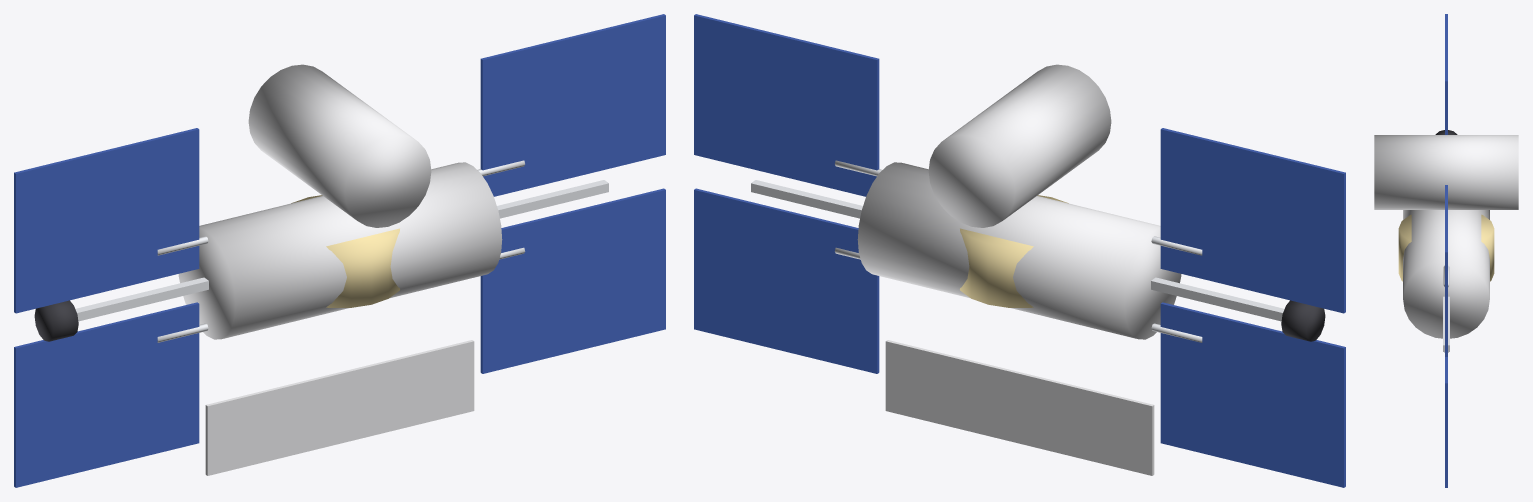
File: station.glb
3 views of the same model, side by side, from view 1: azimuth 30°, elevation 25°; view 2: azimuth 150°, elevation 25°; view 3: azimuth 270°, elevation 25° (orthographic). The views are drawn at different scales.
Parts seen in each view (by area): view 1: station_m1, station_sa-1_1, station_sa-1_0, station_sa1_1, station_sa1_0, station_rad, station_m2, station_node, station_truss, station_dock; view 2: station_m1, station_sa-1_1, station_sa-1_0, station_sa1_1, station_sa1_0, station_rad, station_m2, station_node, station_truss, station_dock; view 3: station_m2, station_m1, station_node, station_sa1_1, station_sa1_0, station_sa-1_1, station_truss.
Part boxes in pixels (box(x1,y1,x2,y2)): station_m1: box(178, 162, 502, 339); station_sa-1_1: box(14, 128, 199, 313); station_sa-1_0: box(14, 302, 199, 487); station_sa1_1: box(480, 14, 665, 196); station_sa1_0: box(480, 188, 665, 373); station_rad: box(205, 340, 474, 475); station_m2: box(248, 64, 431, 227); station_node: box(291, 195, 399, 307); station_truss: box(75, 180, 608, 321); station_dock: box(34, 300, 78, 341); station_m1: box(857, 162, 1181, 339); station_sa-1_1: box(1160, 128, 1345, 313); station_sa-1_0: box(1160, 302, 1345, 487); station_sa1_1: box(694, 14, 879, 196); station_sa1_0: box(694, 188, 879, 373); station_rad: box(885, 340, 1154, 475); station_m2: box(928, 64, 1111, 227); station_node: box(960, 195, 1068, 307); station_truss: box(751, 180, 1284, 321); station_dock: box(1281, 300, 1325, 341); station_m2: box(1374, 135, 1518, 209); station_m1: box(1403, 210, 1489, 338); station_node: box(1398, 214, 1494, 281); station_sa1_1: box(1445, 185, 1447, 356); station_sa1_0: box(1445, 357, 1447, 487); station_sa-1_1: box(1445, 14, 1447, 134); station_truss: box(1443, 296, 1449, 351).
Bounding box in the file's own units: 3.9 × 2 × 1.
